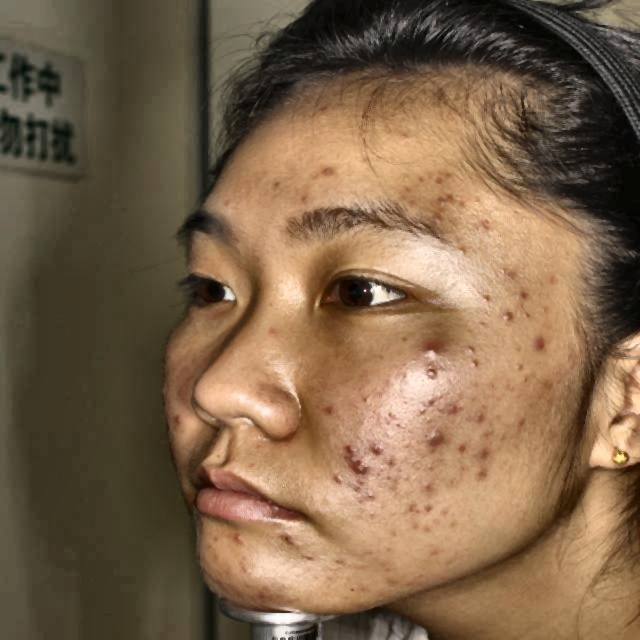papule: (426, 201, 459, 234), (410, 467, 443, 498), (314, 154, 344, 187), (467, 462, 497, 493), (429, 172, 459, 197), (259, 577, 281, 610), (421, 424, 446, 448), (418, 332, 445, 354), (533, 330, 558, 353), (497, 310, 519, 336), (227, 526, 254, 547), (292, 192, 319, 212), (418, 502, 442, 520), (350, 458, 371, 478), (472, 441, 492, 459), (369, 438, 390, 455), (505, 285, 528, 300), (432, 396, 456, 410), (278, 526, 295, 545), (339, 438, 353, 455), (172, 407, 180, 429)
